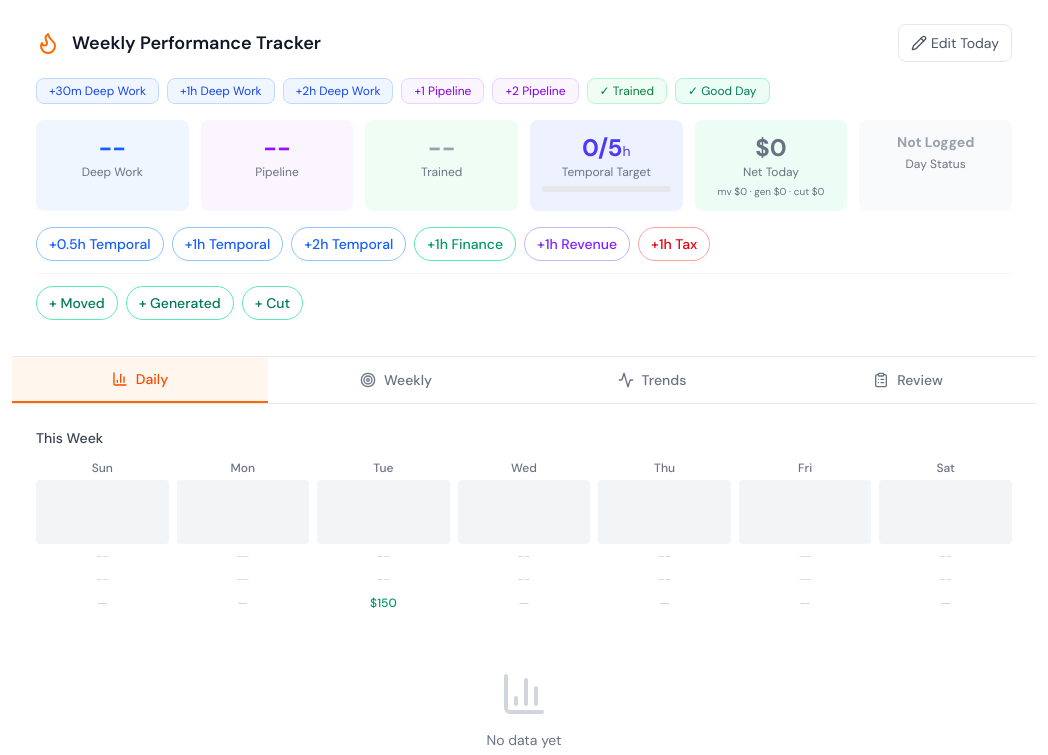
Test: WeeklyPerformanceTracker - Per-day money line › hovering a populated day money cell reveals its entries
Hover over the text with test id "day-money-2": (383, 603) [370,595,397,611]
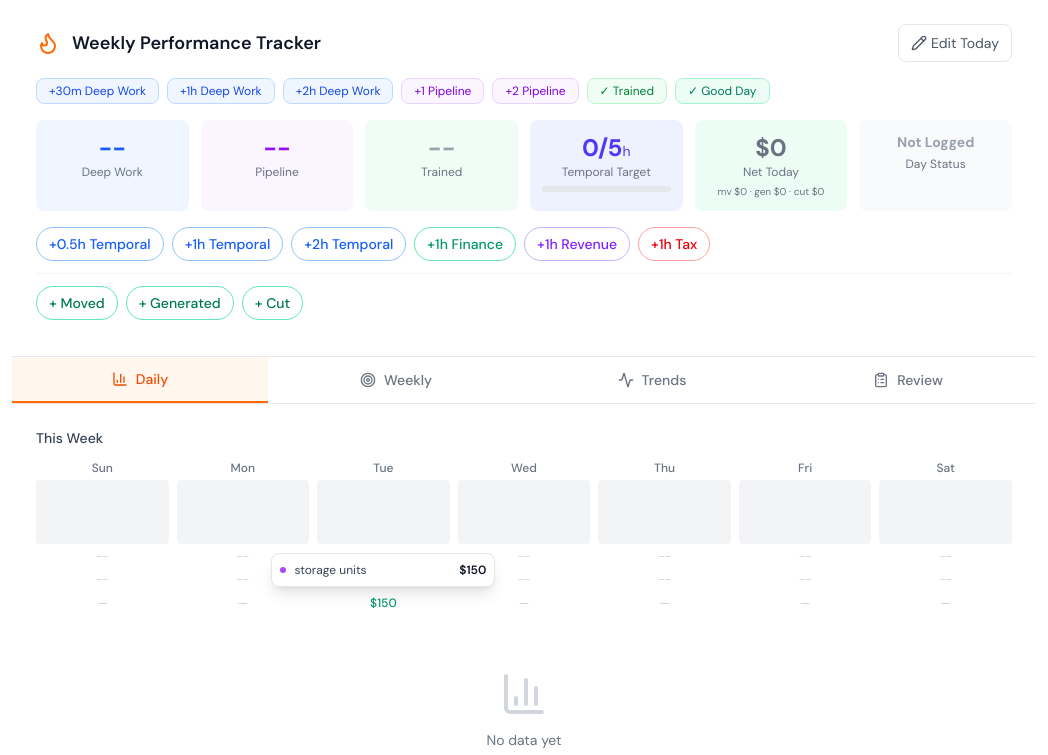
Check: the text "storage units" is shown, box [294,562,367,578]
